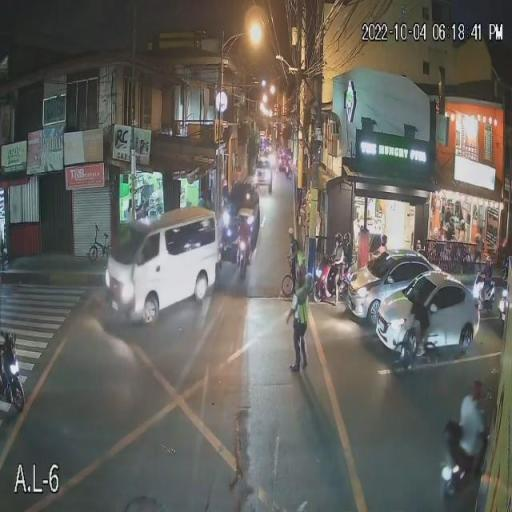helmet: (343, 232, 353, 244), (485, 256, 495, 268), (335, 232, 344, 245), (288, 226, 296, 236)
motorcycle: (436, 418, 490, 512), (0, 332, 27, 414), (312, 260, 348, 306), (470, 274, 504, 320), (232, 222, 254, 270)
rider: (451, 380, 489, 466), (476, 248, 503, 306), (231, 201, 258, 245), (289, 225, 308, 280), (330, 244, 344, 306), (343, 244, 354, 280)
